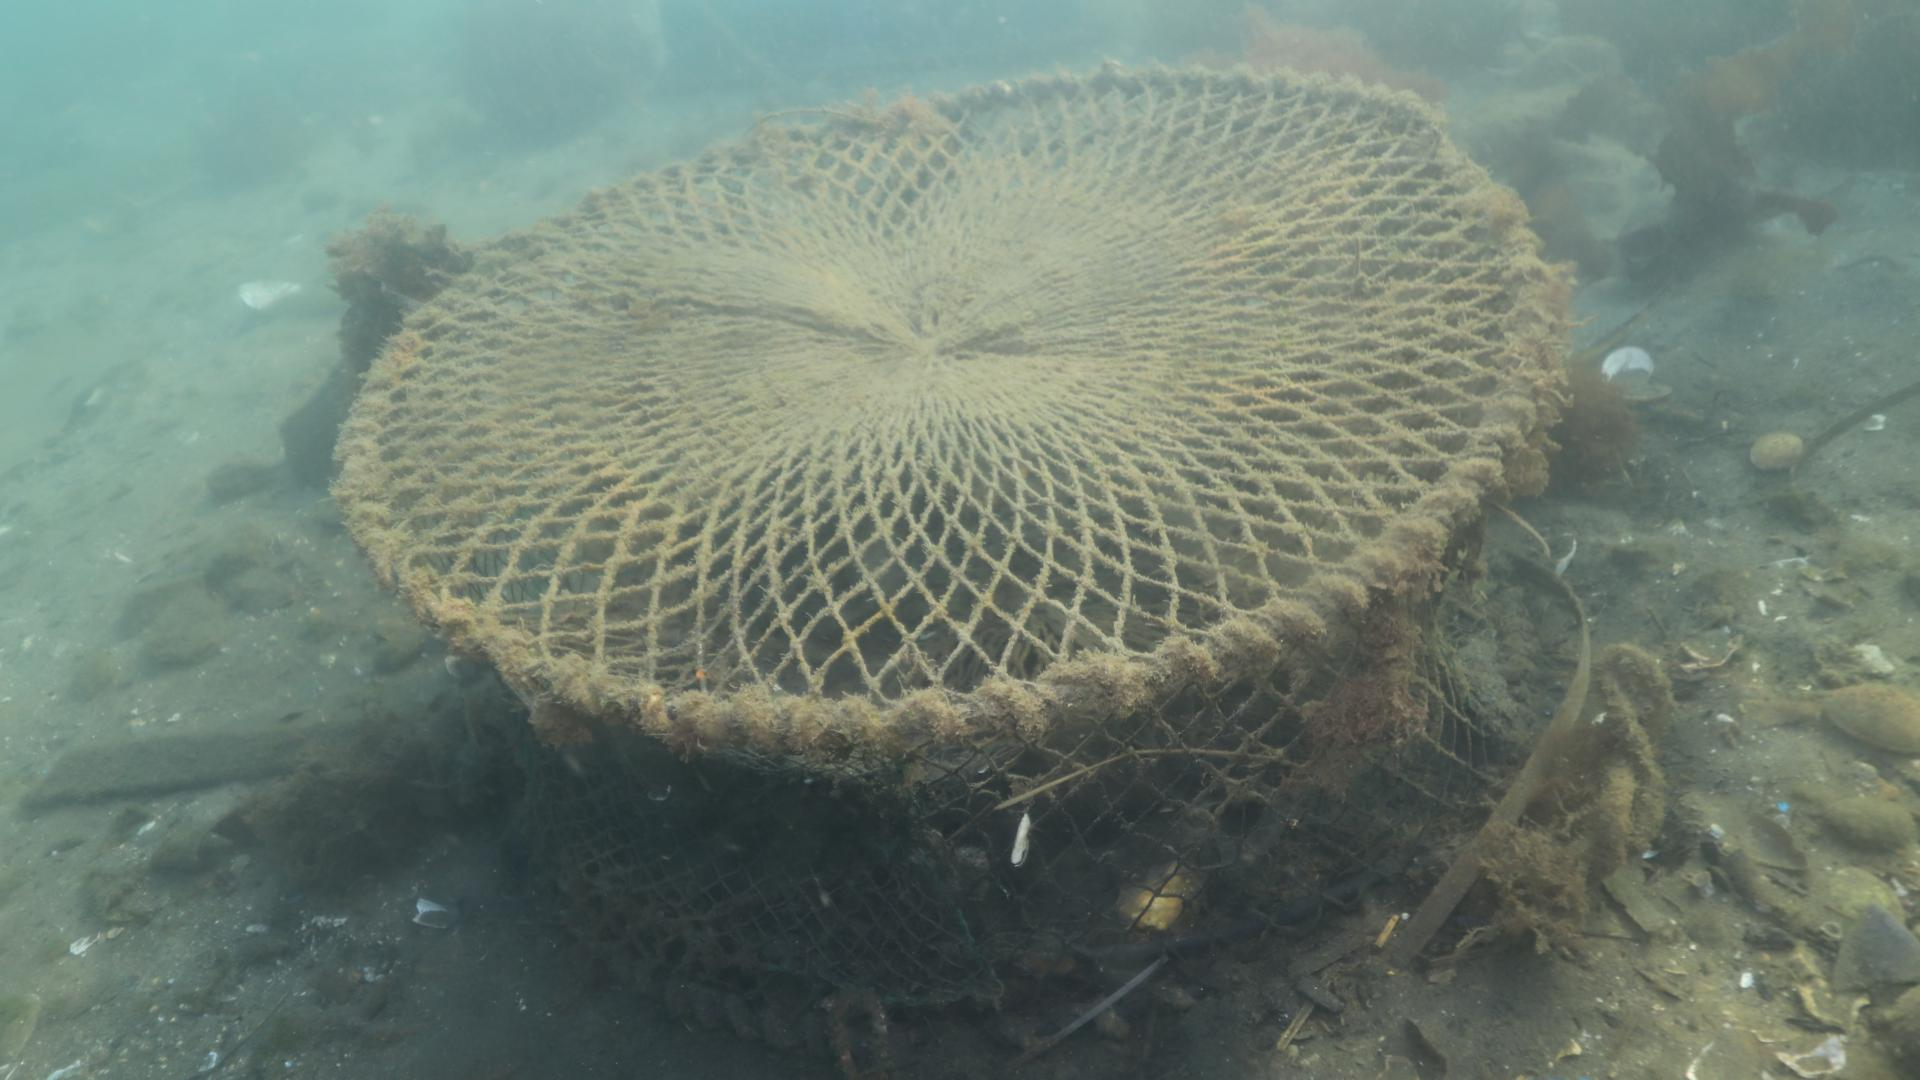circular fish trap: (332, 65, 1563, 1011)
